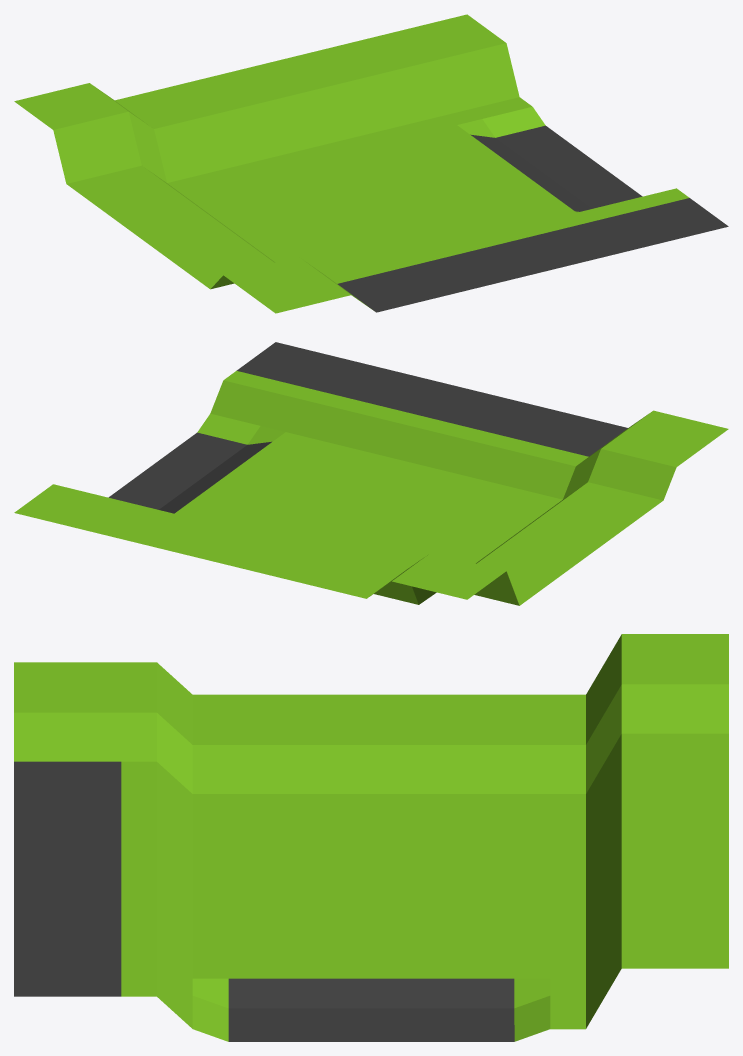
The model's file is Tempat.fbx.
The picture shows the model from 3 angles, top to bottom: view 1: azimuth 30°, elevation 25°; view 2: azimuth 150°, elevation 25°; view 3: azimuth 270°, elevation 25°; orthographic projection. The views are drawn at different scales.
Parts seen in each view (by area): view 1: Tempat; view 2: Tempat; view 3: Tempat.
Boxes of the visible parts, x1,y1,x2,y2 form: Tempat: [14, 14, 728, 313]; Tempat: [14, 342, 728, 605]; Tempat: [14, 634, 728, 1041].
Bounding box in the file's own units: 196 × 32 × 196.
